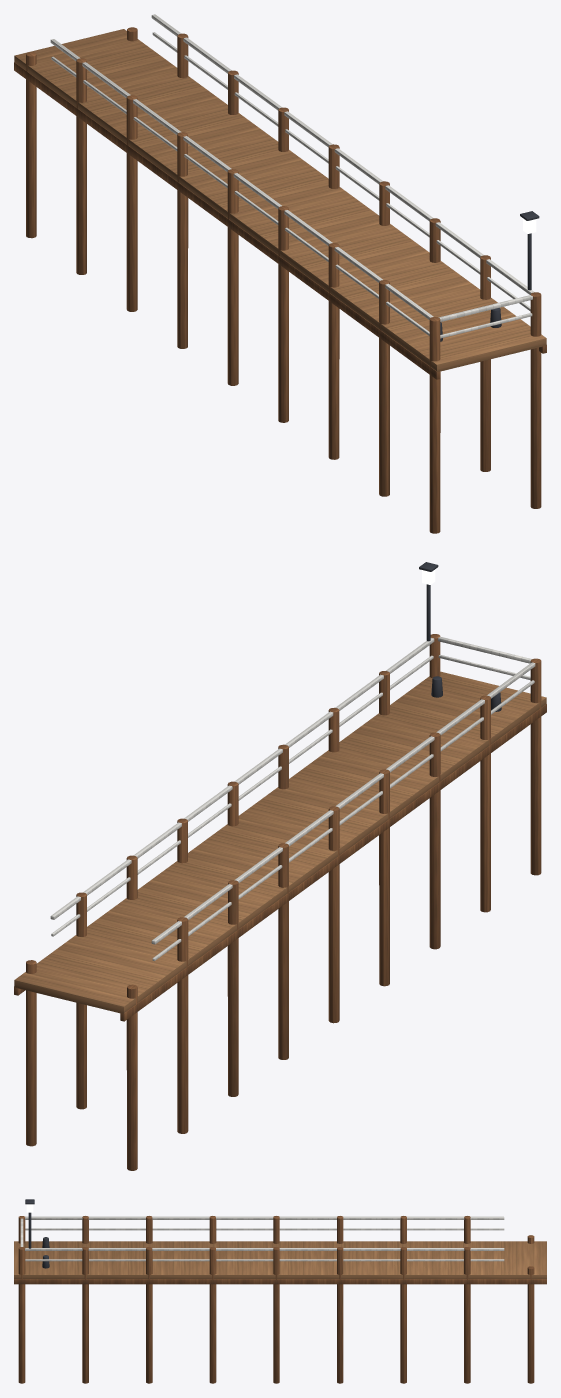
Rendered from pier.glb.
3 views of the same model, one above another, from view 1: azimuth 30°, elevation 25°; view 2: azimuth 150°, elevation 25°; view 3: azimuth 270°, elevation 25° (orthographic). The views are drawn at different scales.
Parts seen in each view (by area): view 1: pier; view 2: pier; view 3: pier.
Boxes of the visible parts, bbox=[...] form: pier: bbox=[14, 14, 546, 533]; pier: bbox=[14, 562, 546, 1170]; pier: bbox=[14, 1199, 546, 1383].
Size of the model in its own units: 3.06 by 7.5 by 20.
Materials: 5 (5 with a texture image).
